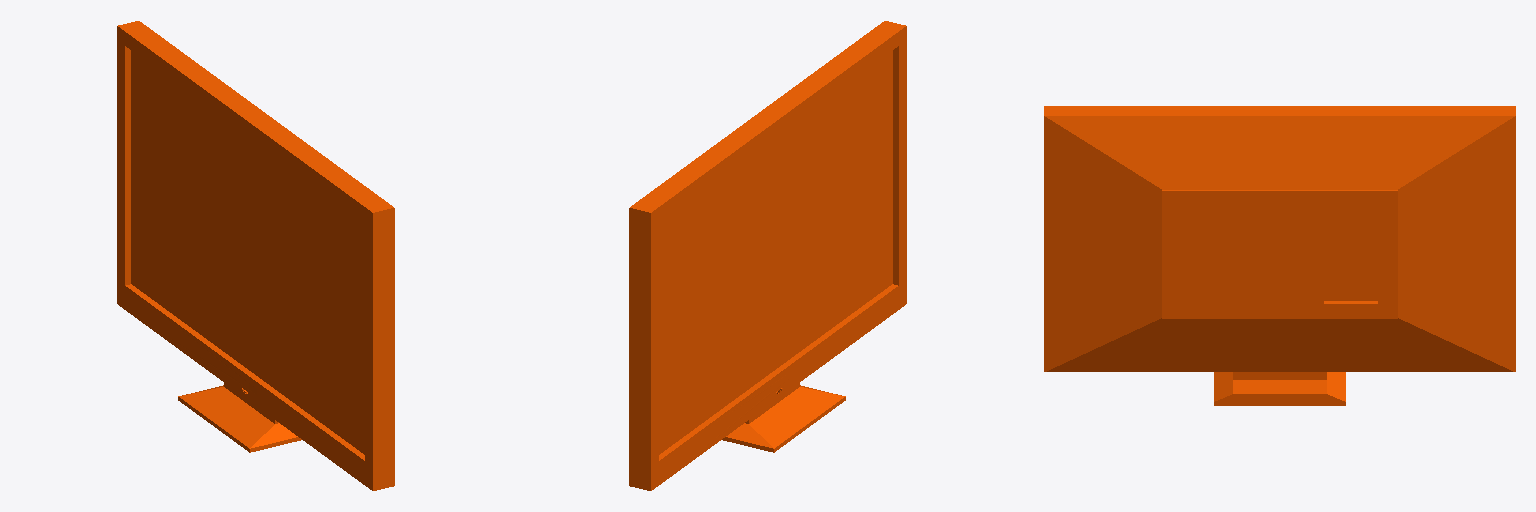
URDF robot description (TV_6946bf798ab999b7cfbd2b4a434b378):
<?xml version="1.0" ?>
<robot name="TV_6946bf798ab999b7cfbd2b4a434b378">
   <material name="obj_color">
      <color rgba="1.0 0.423529411765 0.0392156862745 1.0"/>
   </material>
   <link name="top">
      <inertial>
         <origin rpy="0.0003642705704045877 0.0007468968342105507 0.001077471481725344" xyz="-0.002161969143384926 -0.001551435729336356 -0.003410514715039665"/>
         <mass value="0.374577209492623"/>
         <inertia ixx="0.001077354688228264" ixy="-2.208455502166563e-10" ixz="-6.212513853970964e-06" iyy="0.0003642705704046655" iyz="-5.773404921085151e-11" izz="0.0007470136277075526"/>
      </inertial>
      <visual>
         <origin rpy="0 0 0" xyz="0 0 0"/>
         <geometry>
            <mesh filename="top_watertight_tiny.stl" scale="1 1 1"/>
         </geometry>
         <material name="obj_color"/>
      </visual>
      <collision>
         <origin rpy="0 0 0" xyz="0 0 0"/>
         <geometry>
            <mesh filename="top_watertight_tiny.obj" scale="1 1 1"/>
         </geometry>
      </collision>
   </link>
   <link name="bottom">
      <inertial>
         <origin rpy="1.633333333199431e-08 1.633333333199431e-08 1.633333333362855e-08" xyz="0.3464080000000008 0.3464080000000008 0.3464080000000008"/>
         <mass value="0.0009800000000000017"/>
         <inertia ixx="1.633333333253906e-08" ixy="5.447480642029219e-19" ixz="5.447480642029219e-19" iyy="1.633333333253906e-08" iyz="5.447480642029219e-19" izz="1.633333333253906e-08"/>
      </inertial>
      <visual>
         <origin rpy="0 0 0" xyz="0 0 0"/>
         <geometry>
            <mesh filename="bottom_watertight_tiny.stl" scale="1 1 1"/>
         </geometry>
         <material name="obj_color"/>
      </visual>
   </link>
   <joint name="rotation" type="revolute">
      <origin xyz="0 0 0"/>
      <axis xyz="0 0 -1"/>
      <parent link="bottom"/>
      <child link="top"/>
      <dynamics damping="1.0" friction="1.0"/>
      <limit effort="0.1" velocity="0.1" lower="0" upper="0.001"/>
   </joint>
</robot>

--- Render facts (derived) ---
The picture shows the robot from 3 angles, left to right: view 1: azimuth 30°, elevation 25°; view 2: azimuth 150°, elevation 25°; view 3: azimuth 270°, elevation 25°; orthographic projection.
Model TV_6946bf798ab999b7cfbd2b4a434b378 with 2 links and 1 joints (1 revolute), rooted at bottom, posed every joint at zero.
Links seen in each view (by area): view 1: top; view 2: top; view 3: top.
Link boxes in pixels (x1,y1,x2,y2): top: (117,21,394,490); top: (629,21,906,490); top: (1044,106,1515,405).
Size in the robot's own frame: 0.0327 by 0.1742 by 0.1127 metres.
1 mesh visuals loaded from 2 distinct referenced files (1 binary STL); not drawn: 1 (reference not matched to a file when rendering).
